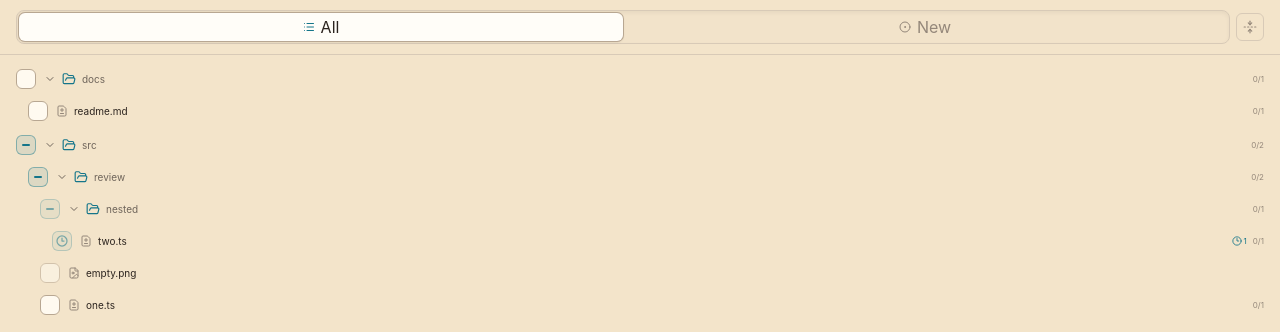
Scenario: folder review checkboxes › keeps the native mixed state after click signs off a folder with waiting units
The width and height of the screenshot is (1280, 332).
Click the checkbox named "Sign off 1 review unit in folder src/review. 1 unit stays waiting for a response.": (38, 177) [28,167,48,187]
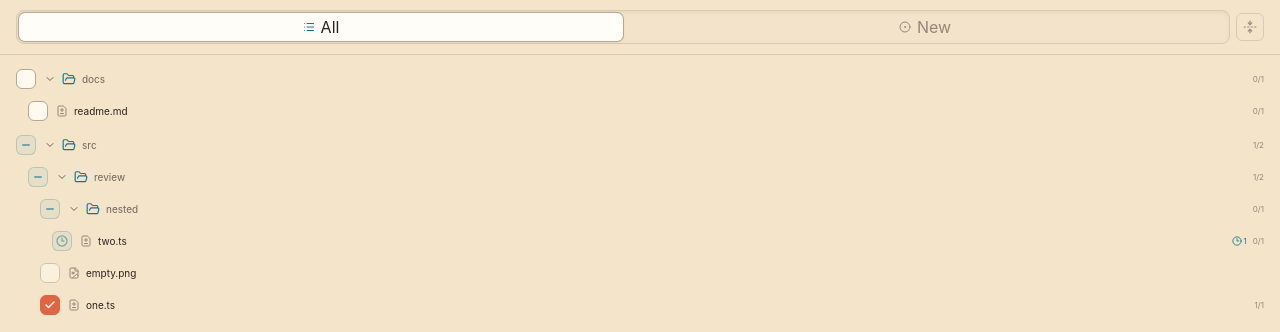
Now the checkbox named "Sign off 1 review unit in folder src/review. 1 unit stays waiting for a response." is disabled, box [28,167,48,187]
